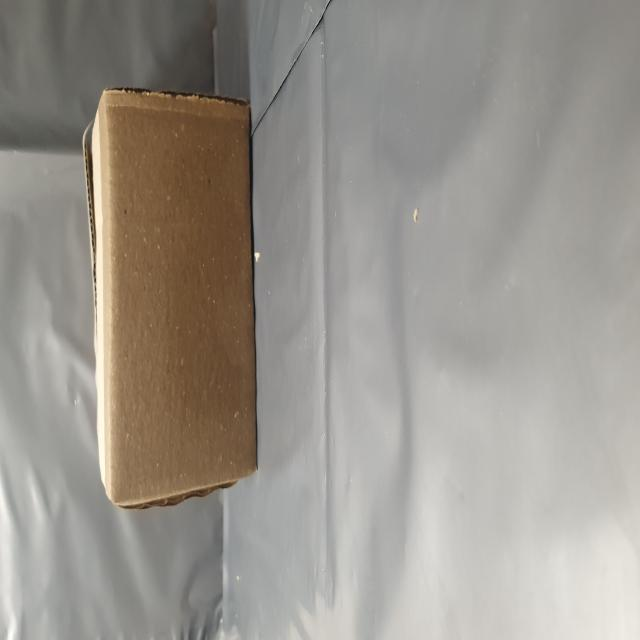wet: (72, 184, 302, 452)
